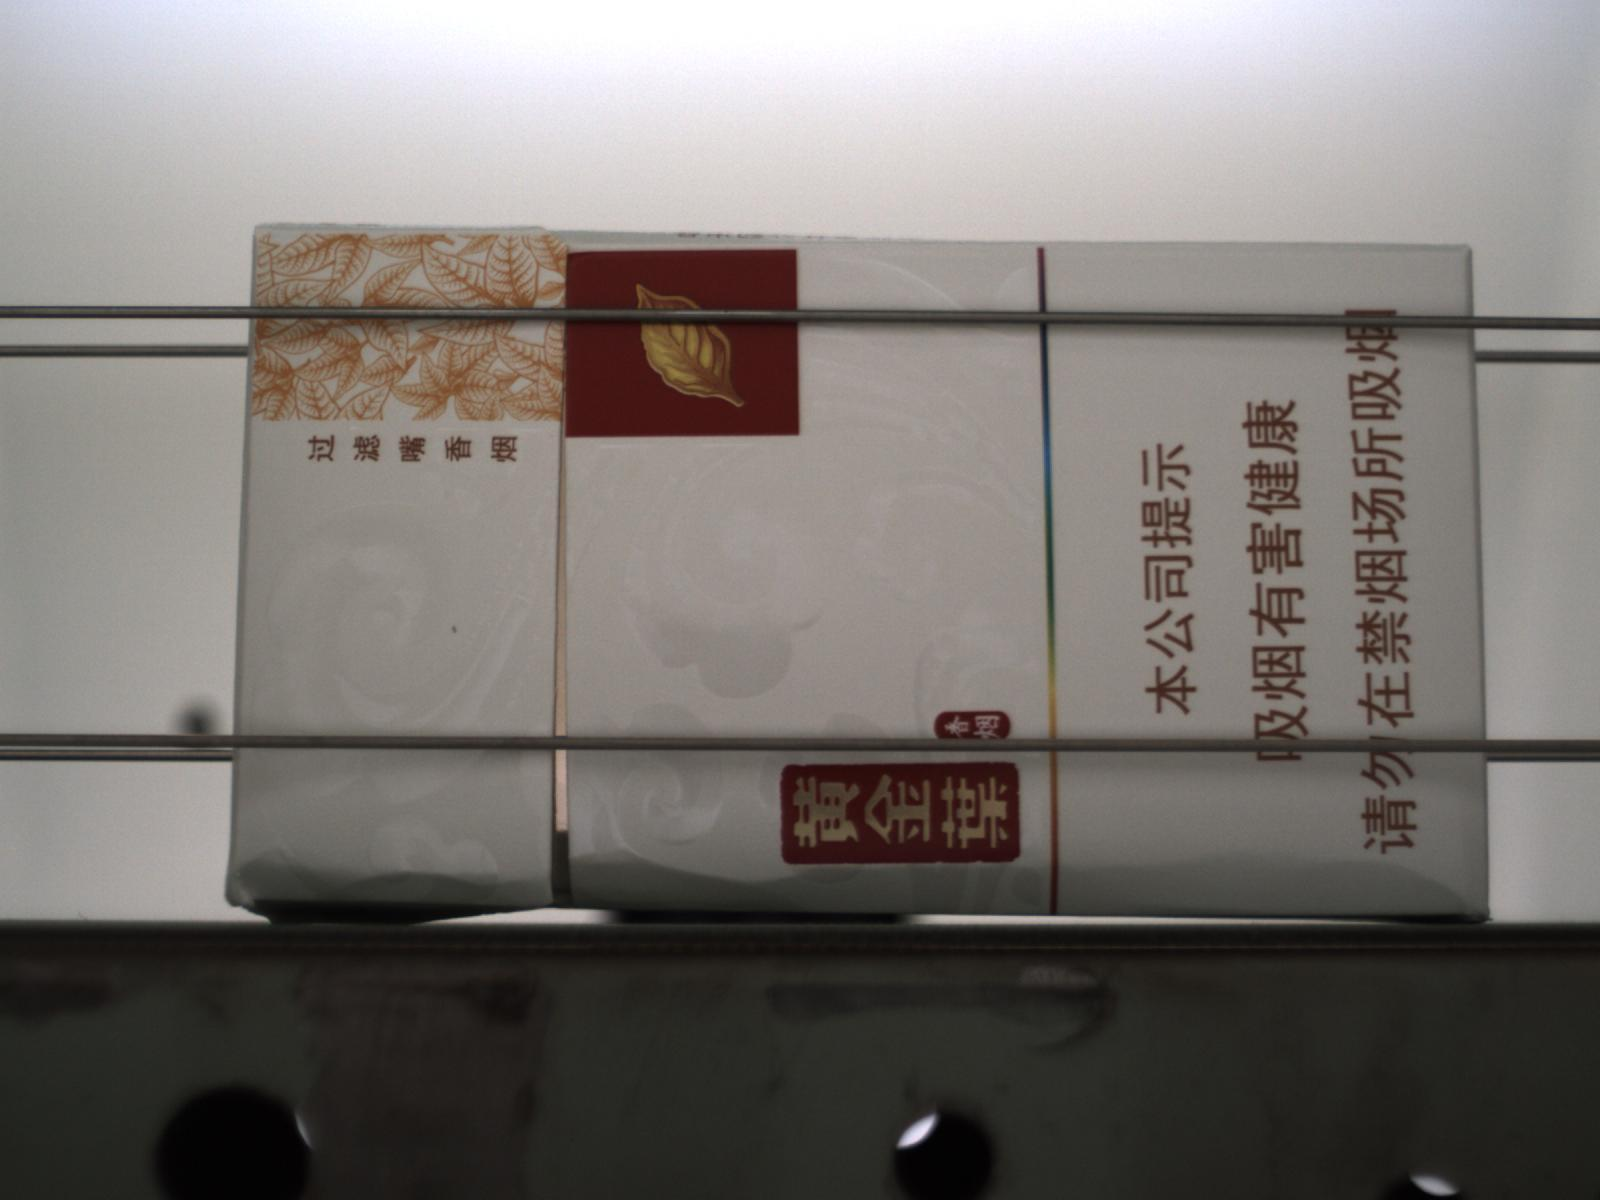boxDamage_slight: (530, 851, 1494, 925)
dirtySpot: (449, 624, 461, 637)
lower_upwarp: (222, 892, 552, 929)
skewedOpen: (546, 372, 580, 911)
skewed_upper_0: (546, 226, 1041, 258)
